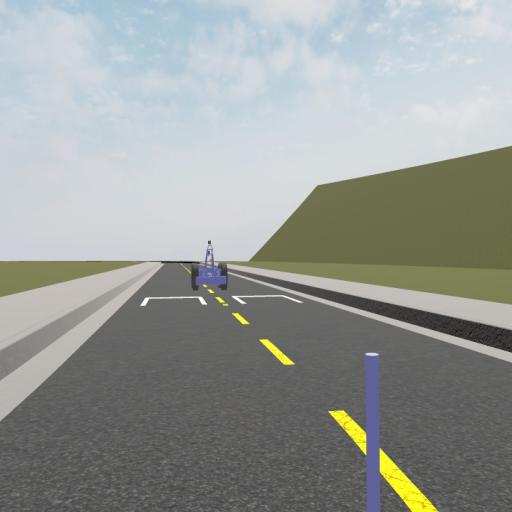ERP-42: (191, 242, 228, 290)
